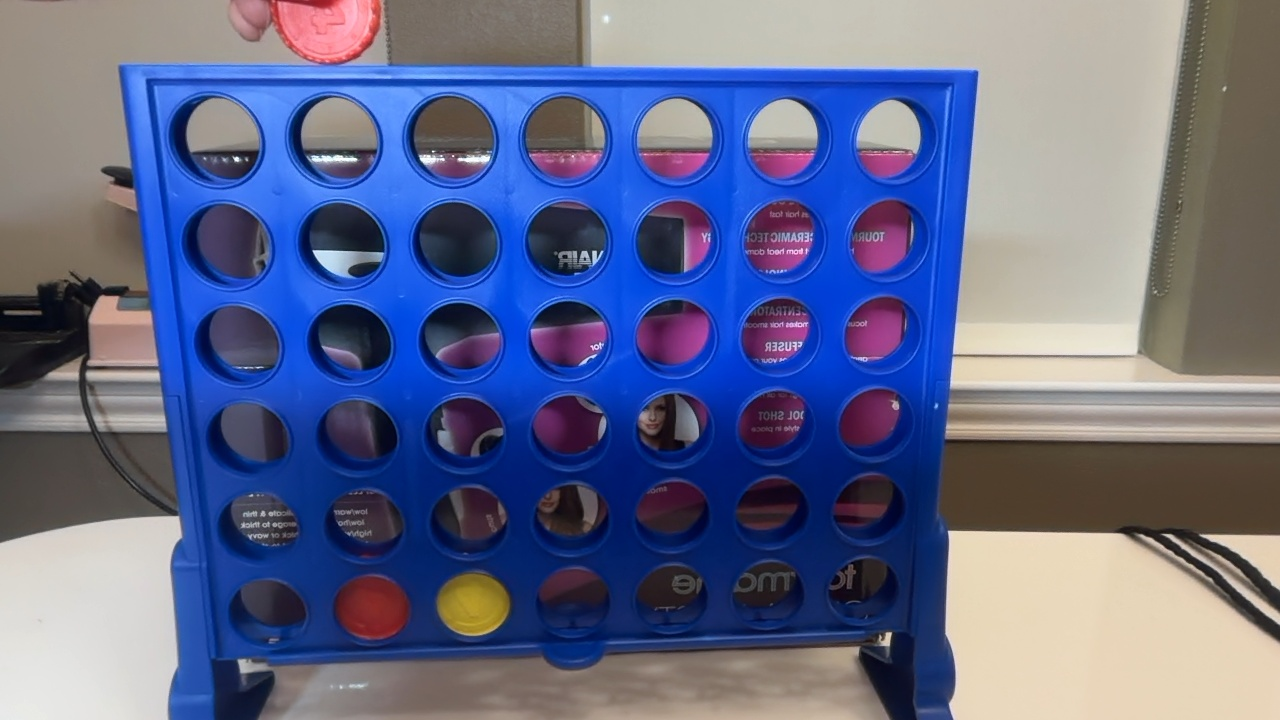red piece: (334, 575, 409, 640)
yellow piece: (436, 572, 510, 636)
